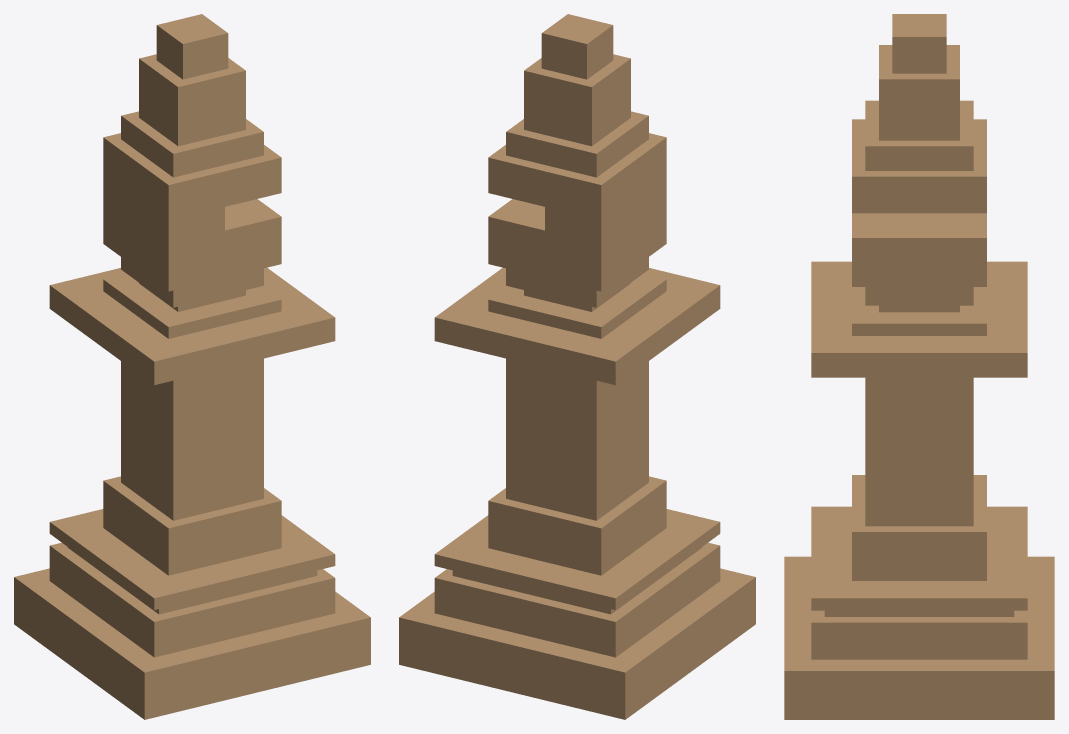
The model's file is white_bishop.glb.
3 views of the same model, side by side, from view 1: azimuth 30°, elevation 25°; view 2: azimuth 150°, elevation 25°; view 3: azimuth 270°, elevation 25° (orthographic). The views are drawn at different scales.
Parts seen in each view (by area): view 1: Untitled; view 2: Untitled; view 3: Untitled.
Part boxes in pixels (box(x1,y1,x2,y2)): Untitled: box(14, 14, 370, 719); Untitled: box(399, 14, 755, 719); Untitled: box(784, 14, 1054, 719).
Size of the model in its own units: 0.6 by 1.56 by 0.6.
Materials: 1 (1 with a texture image).
